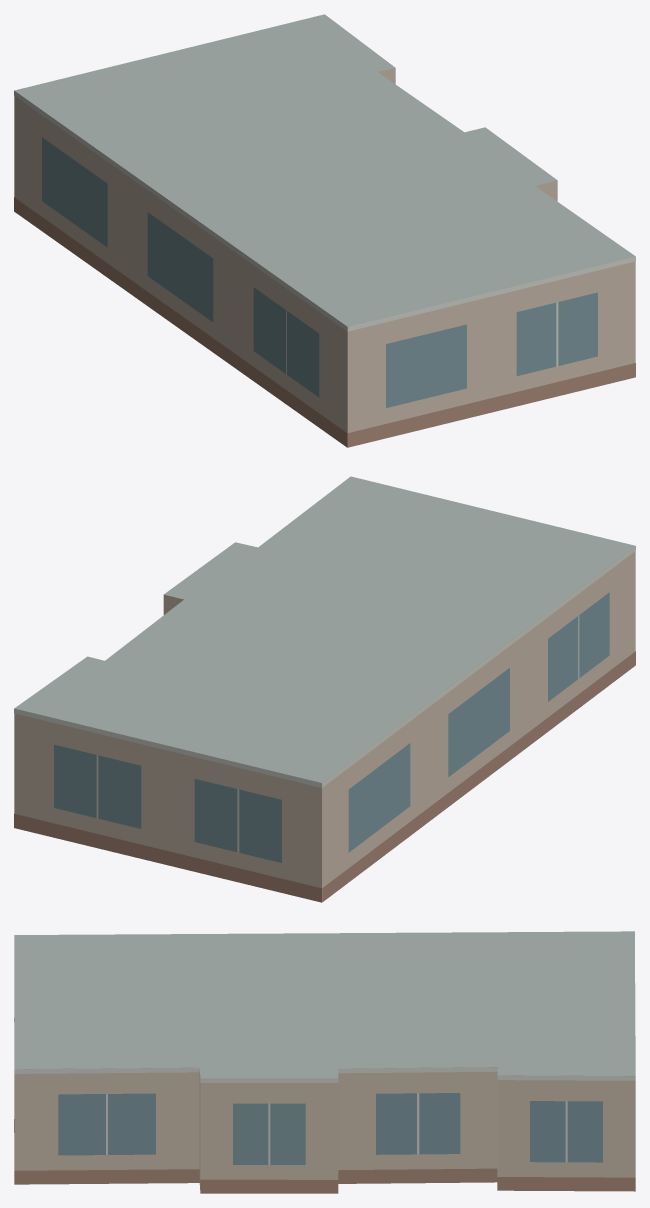
The model's file is survey-upis-32907333.glb.
The picture shows the model from 3 angles, top to bottom: view 1: azimuth 30°, elevation 25°; view 2: azimuth 150°, elevation 25°; view 3: azimuth 270°, elevation 25°; orthographic projection. The views are drawn at different scales.
Visible parts, largest first — view 1: survey-upis-32907333.tmp; view 2: survey-upis-32907333.tmp; view 3: survey-upis-32907333.tmp.
Boxes of the visible parts, left/top/right/bottom form: survey-upis-32907333.tmp: left=14, top=14, right=635, bottom=447; survey-upis-32907333.tmp: left=14, top=476, right=635, bottom=902; survey-upis-32907333.tmp: left=14, top=931, right=635, bottom=1193.
Bounding box in the file's own units: 8.35 × 3.05 × 14.91.
